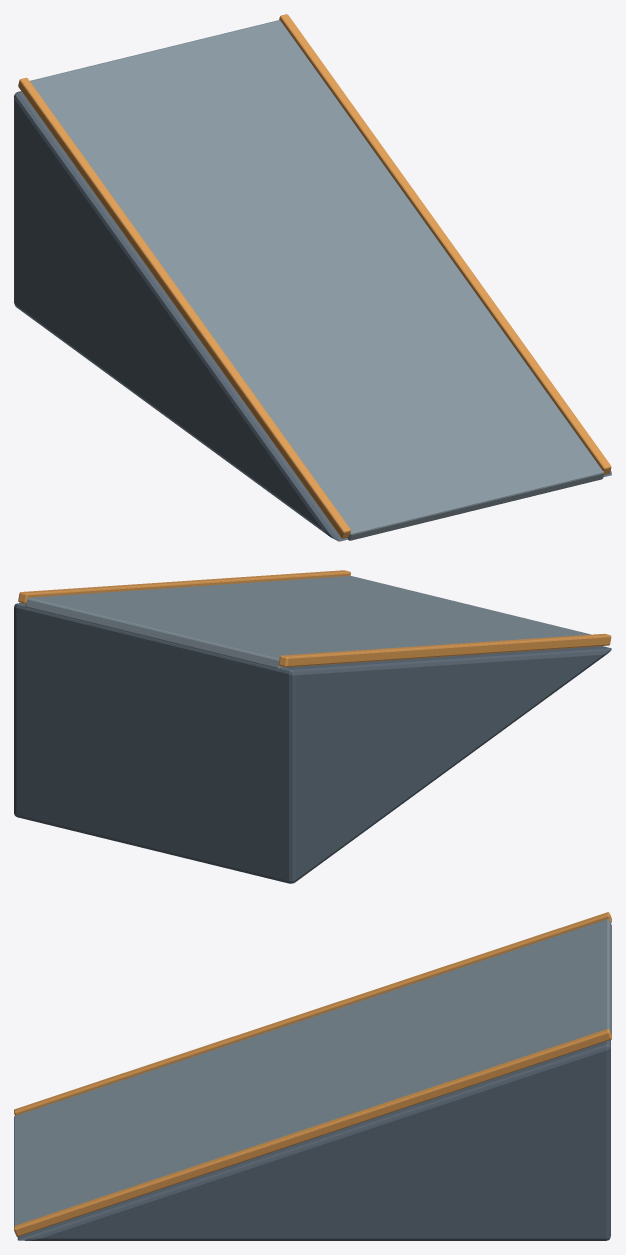
Rendered from training-ramp.glb.
3 renders of one model, top to bottom at view 1: azimuth 30°, elevation 25°; view 2: azimuth 150°, elevation 25°; view 3: azimuth 270°, elevation 25°, orthographic. The views are drawn at different scales.
Parts seen in each view (by area): view 1: Visual_Ramp_WalkSurface, Visual_Ramp_Structure, Visual_Merged_ZA_TrainingRamp_Root_Warning_Orange; view 2: Visual_Ramp_Structure, Visual_Ramp_WalkSurface, Visual_Merged_ZA_TrainingRamp_Root_Warning_Orange; view 3: Visual_Ramp_WalkSurface, Visual_Ramp_Structure, Visual_Merged_ZA_TrainingRamp_Root_Warning_Orange.
Boxes of the visible parts, x1,y1,x2,y2 form: Visual_Ramp_WalkSurface: [30, 20, 604, 540]; Visual_Ramp_Structure: [14, 91, 611, 541]; Visual_Merged_ZA_TrainingRamp_Root_Warning_Orange: [18, 14, 611, 538]; Visual_Ramp_Structure: [14, 603, 611, 883]; Visual_Ramp_WalkSurface: [25, 576, 590, 669]; Visual_Merged_ZA_TrainingRamp_Root_Warning_Orange: [18, 570, 611, 667]; Visual_Ramp_WalkSurface: [14, 919, 611, 1236]; Visual_Ramp_Structure: [17, 1040, 610, 1240]; Visual_Merged_ZA_TrainingRamp_Root_Warning_Orange: [14, 912, 611, 1236].
Bounding box in the file's own units: 3 × 2.32 × 6.02.
